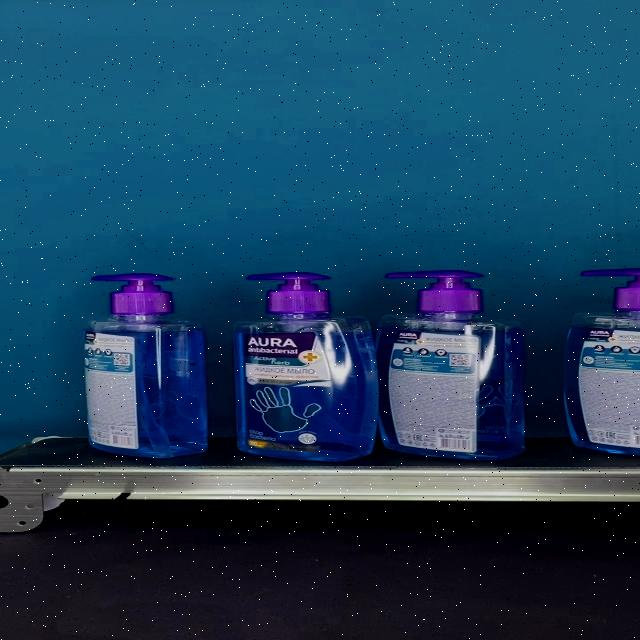Bottle: (374, 272, 525, 460), (233, 274, 378, 461), (80, 274, 209, 458)
Cap: (386, 272, 486, 314), (247, 273, 332, 315), (92, 274, 174, 315)
